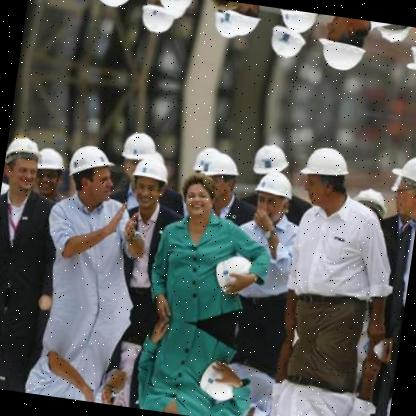capacete: (62, 136, 118, 186), (298, 142, 354, 186), (114, 122, 162, 164), (250, 168, 296, 209), (127, 153, 176, 188), (250, 140, 292, 180), (202, 148, 244, 187), (26, 140, 70, 176), (4, 132, 48, 166), (387, 142, 416, 192), (350, 184, 390, 220), (189, 141, 225, 174)
